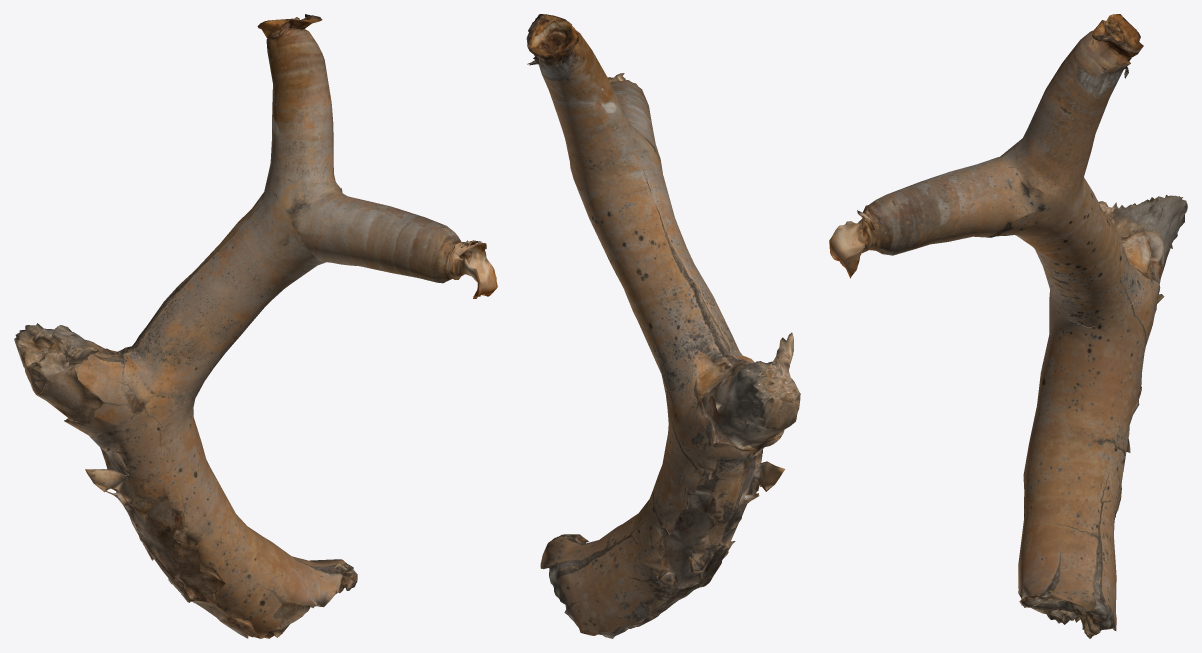
File: dead_branch.glb
3 renders of one model, left to right at view 1: azimuth 30°, elevation 25°; view 2: azimuth 150°, elevation 25°; view 3: azimuth 270°, elevation 25°, orthographic. The views are drawn at different scales.
Parts seen in each view (by area): view 1: dead_quiver_branch_01; view 2: dead_quiver_branch_01; view 3: dead_quiver_branch_01.
Part boxes in pixels (box(x1,y1,x2,y2)): dead_quiver_branch_01: box(14, 14, 497, 638); dead_quiver_branch_01: box(526, 14, 800, 638); dead_quiver_branch_01: box(829, 14, 1187, 638).
Size of the model in its own units: 0.9007 by 1.55 by 0.7984.
Materials: 1 (1 with a texture image).
